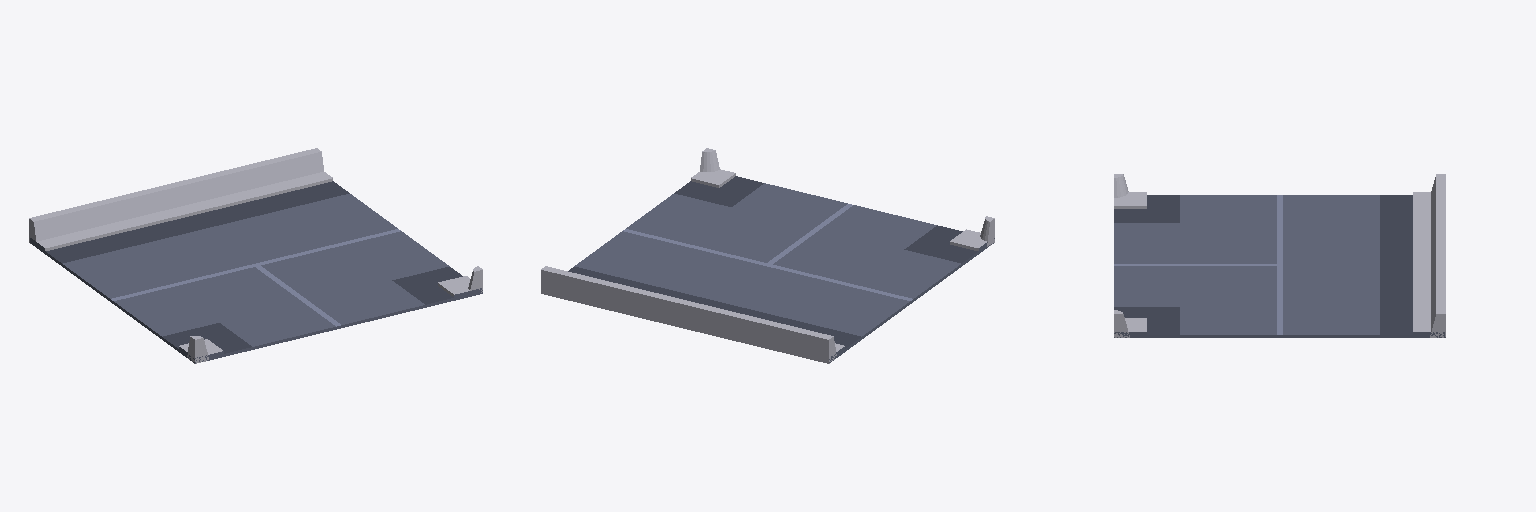
File: road_intersection.obj
3 renders of one model, left to right at view 1: azimuth 30°, elevation 25°; view 2: azimuth 150°, elevation 25°; view 3: azimuth 270°, elevation 25°, orthographic.
Visible parts, largest first — view 1: road_intersectionLine, road_intersectionBarrier; view 2: road_intersectionLine, road_intersectionBarrier; view 3: road_intersectionLine, road_intersectionBarrier.
Part boxes in pixels (x1,y1,x2,y2): road_intersectionLine: (30, 172, 482, 363); road_intersectionBarrier: (29, 148, 482, 363); road_intersectionLine: (541, 169, 994, 363); road_intersectionBarrier: (541, 148, 994, 363); road_intersectionLine: (1114, 192, 1445, 337); road_intersectionBarrier: (1114, 174, 1445, 337).
Size of the model in its own units: 1 by 0.08 by 1.